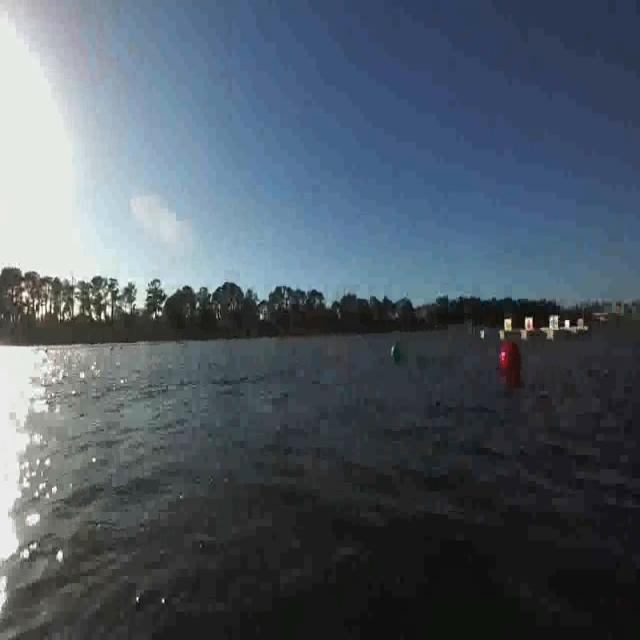green-buoy: (393, 345, 401, 363)
red-buoy: (500, 341, 523, 382)
